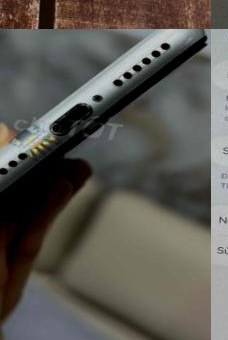scratch: (155, 29, 206, 46)
